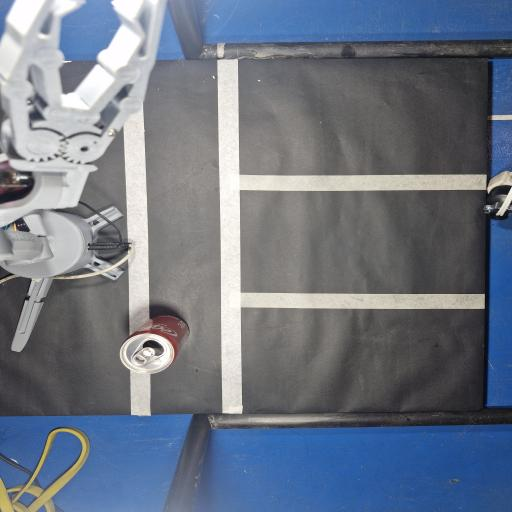lata: (120, 315, 189, 374)
